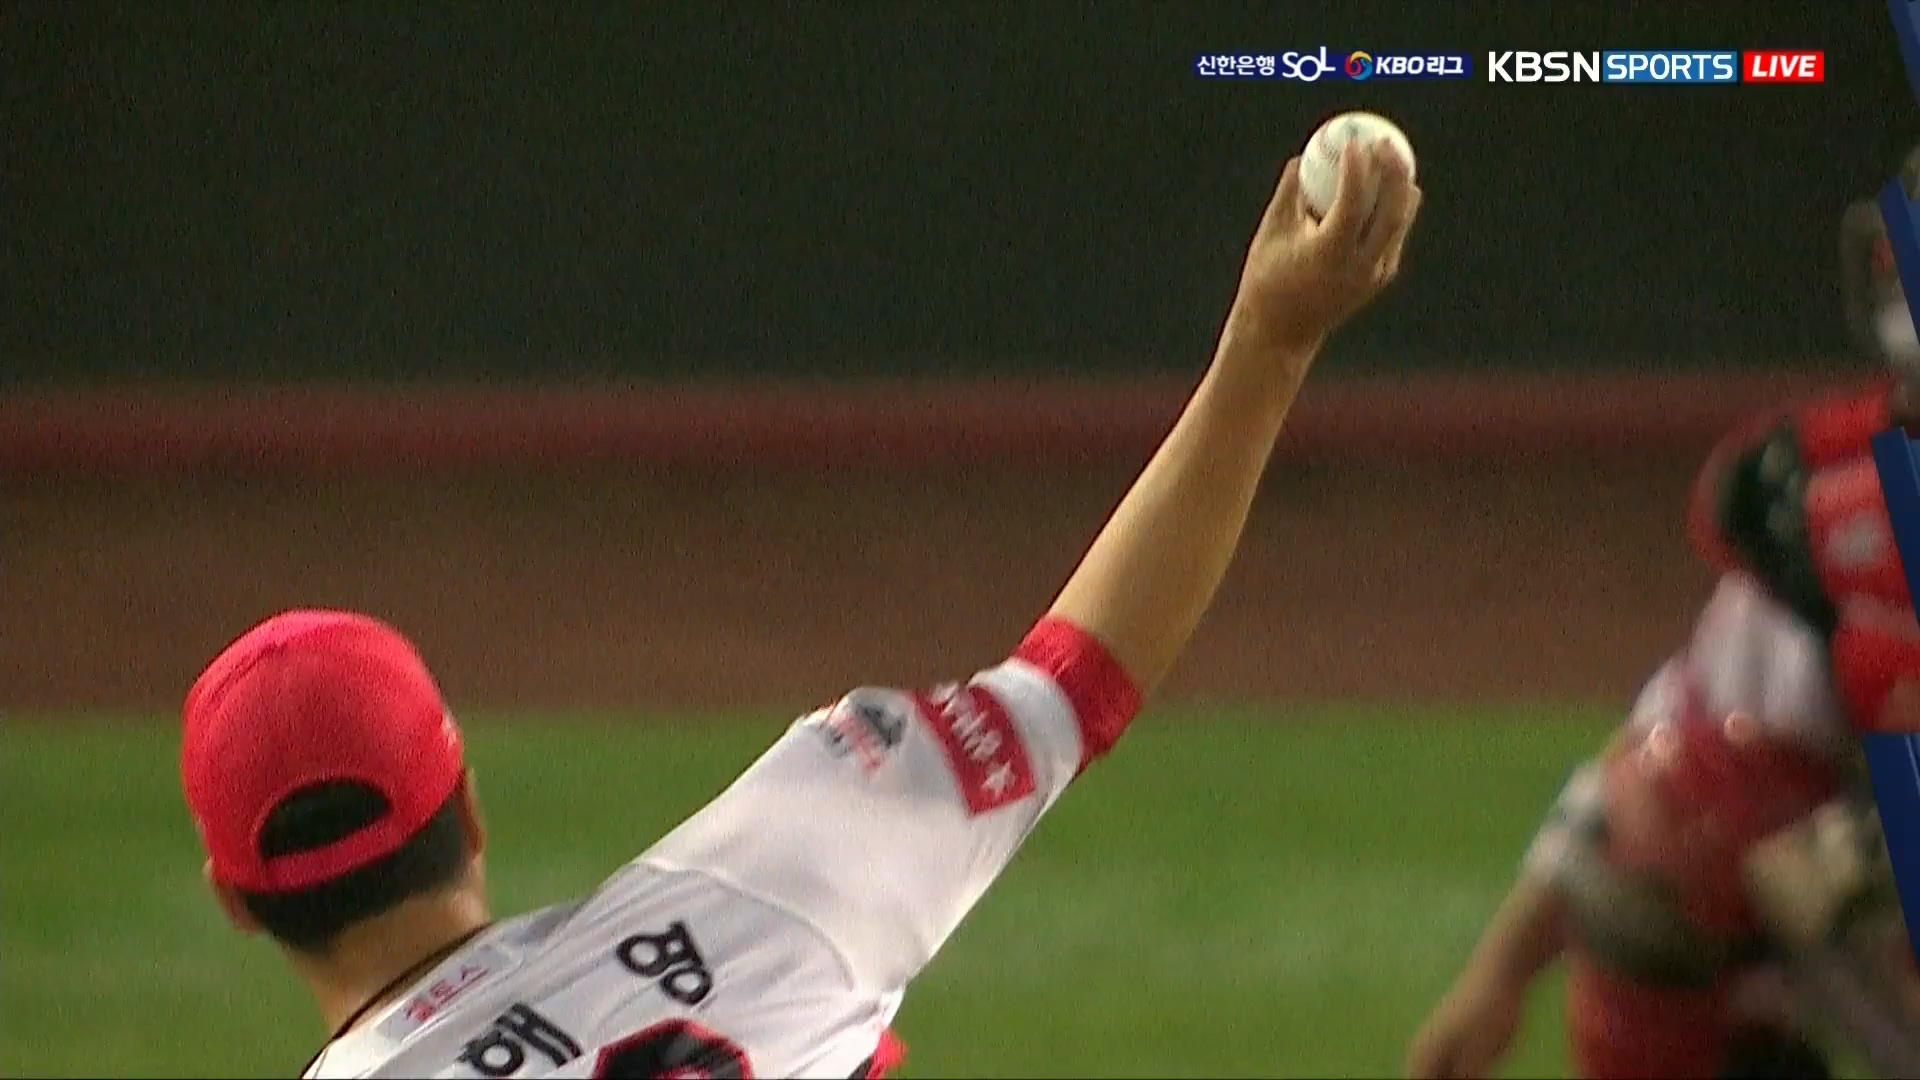zoomin_hand: (1029, 111, 1432, 786)
